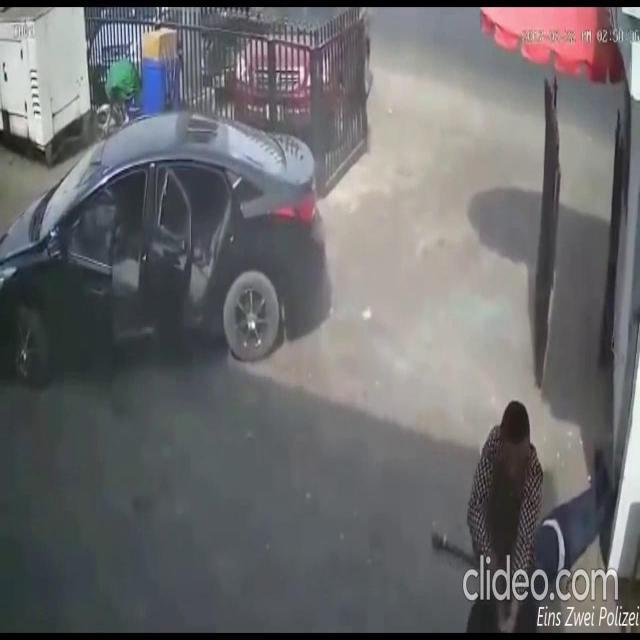pistol: (496, 566, 516, 635)
